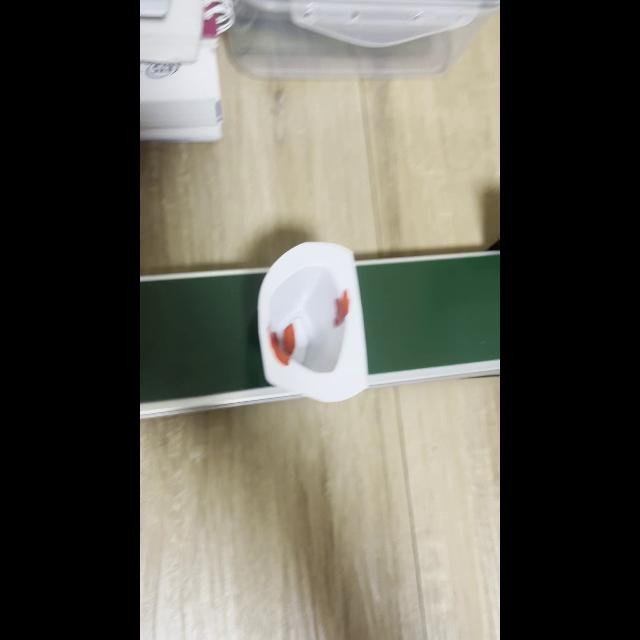dirty: (256, 270, 368, 390)
